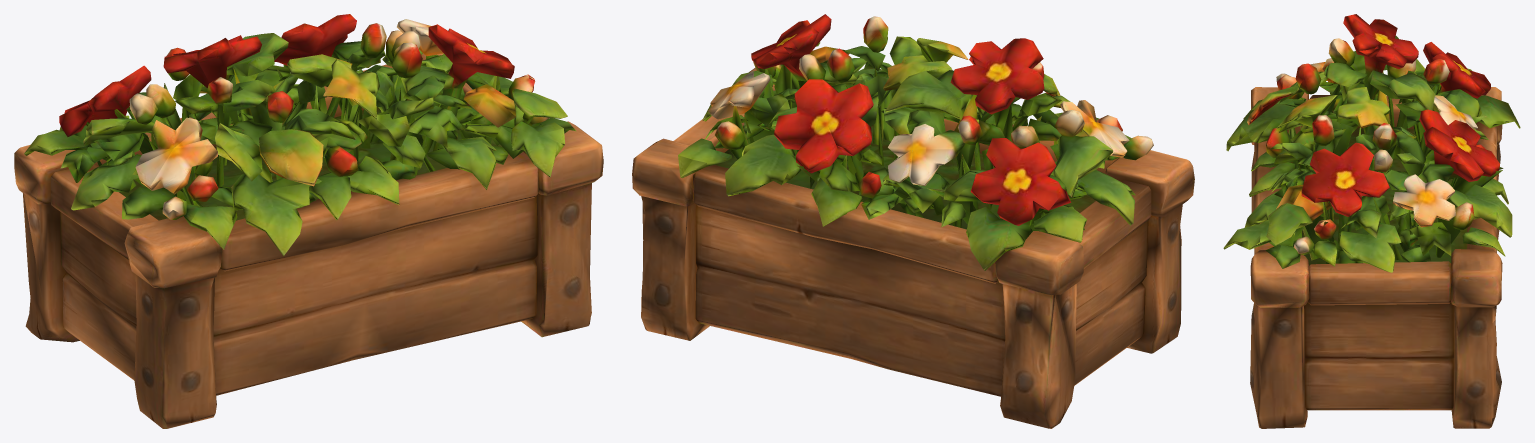
File: flower_planter_box.glb
3 renders of one model, left to right at view 1: azimuth 30°, elevation 25°; view 2: azimuth 150°, elevation 25°; view 3: azimuth 270°, elevation 25°, orthographic. The views are drawn at different scales.
Parts seen in each view (by area): view 1: flower_planter_box; view 2: flower_planter_box; view 3: flower_planter_box.
Boxes of the visible parts, x1=… form: flower_planter_box: x1=14, y1=14, x2=603, y2=428; flower_planter_box: x1=632, y1=14, x2=1194, y2=428; flower_planter_box: x1=1223, y1=14, x2=1520, y2=428.
Size of the model in its own units: 0.742 by 0.5 by 0.4807.
1 material, 1 textured.
